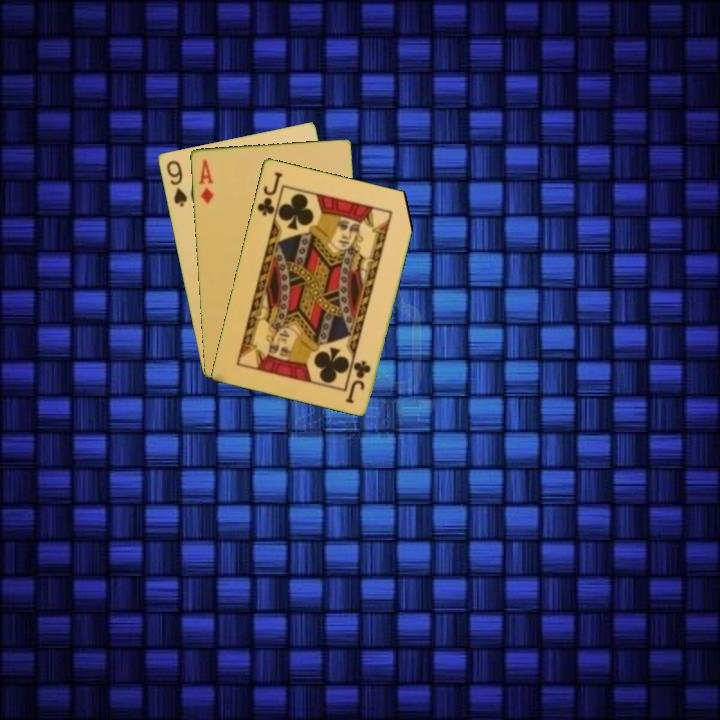9s: (162, 156, 190, 209)
Ad: (195, 156, 216, 206)
Jc: (253, 168, 285, 218), (343, 356, 374, 406)
